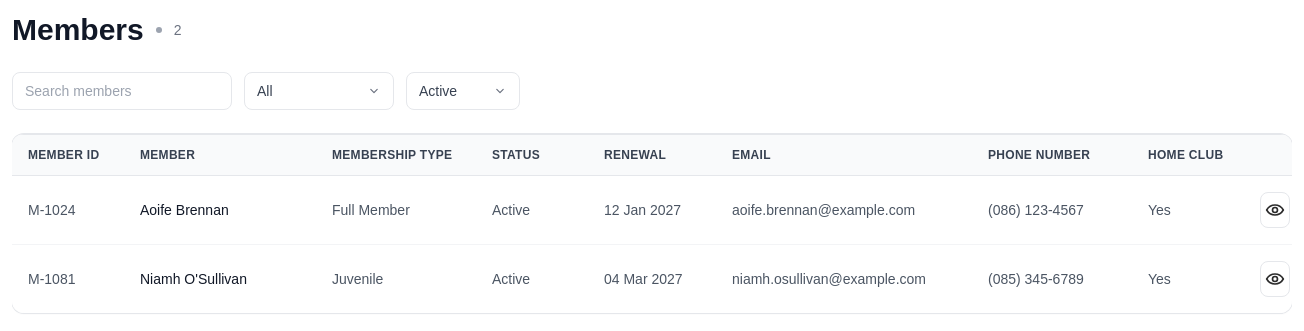
Test: MembersPage › rendering › should restore rows when the search is cleared
The width and height of the screenshot is (1304, 331).
Type "aoife" into the search field labelled "Search members". click: [122, 91]
box: x1=12 y1=72 x2=232 y2=110
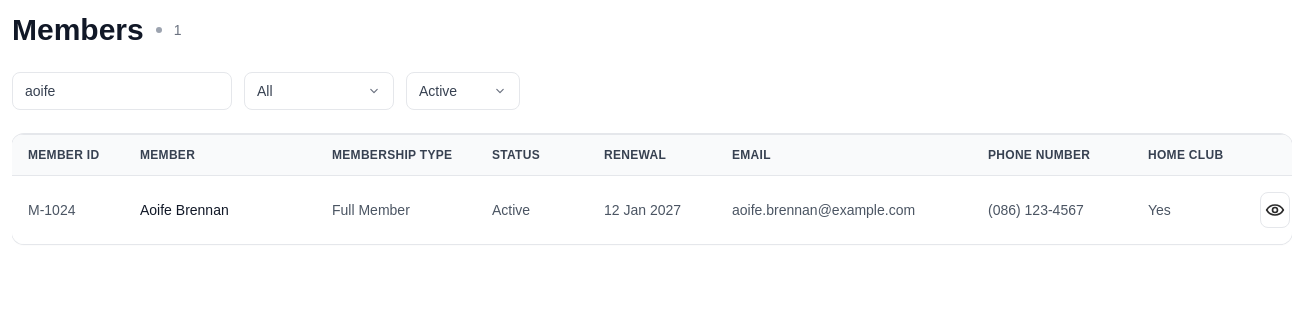
Result: the text "Niamh O'Sullivan" is gone
Clear the search field named "Search members". click: [122, 91]
box: x1=12 y1=72 x2=232 y2=110
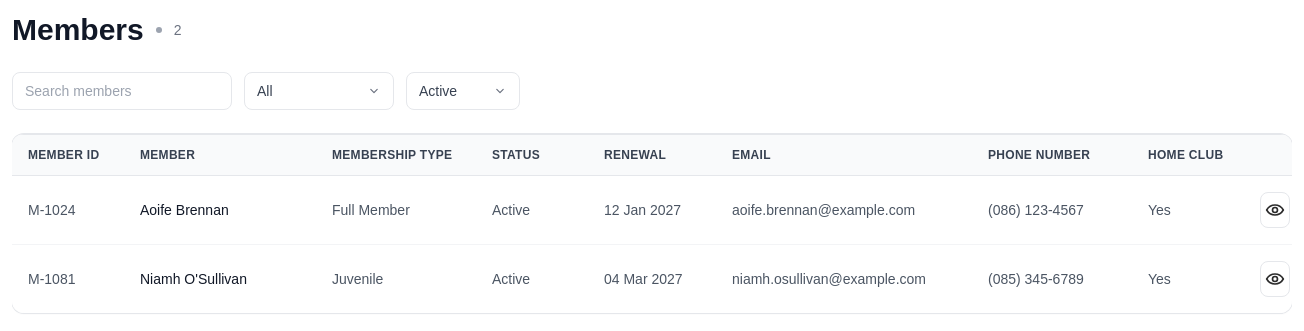
Expected: the text "Aoife Brennan" is shown, x1=124 y1=176 x2=316 y2=244
Result: the text "Niamh O'Sullivan" is shown at x1=124 y1=244 x2=316 y2=313
